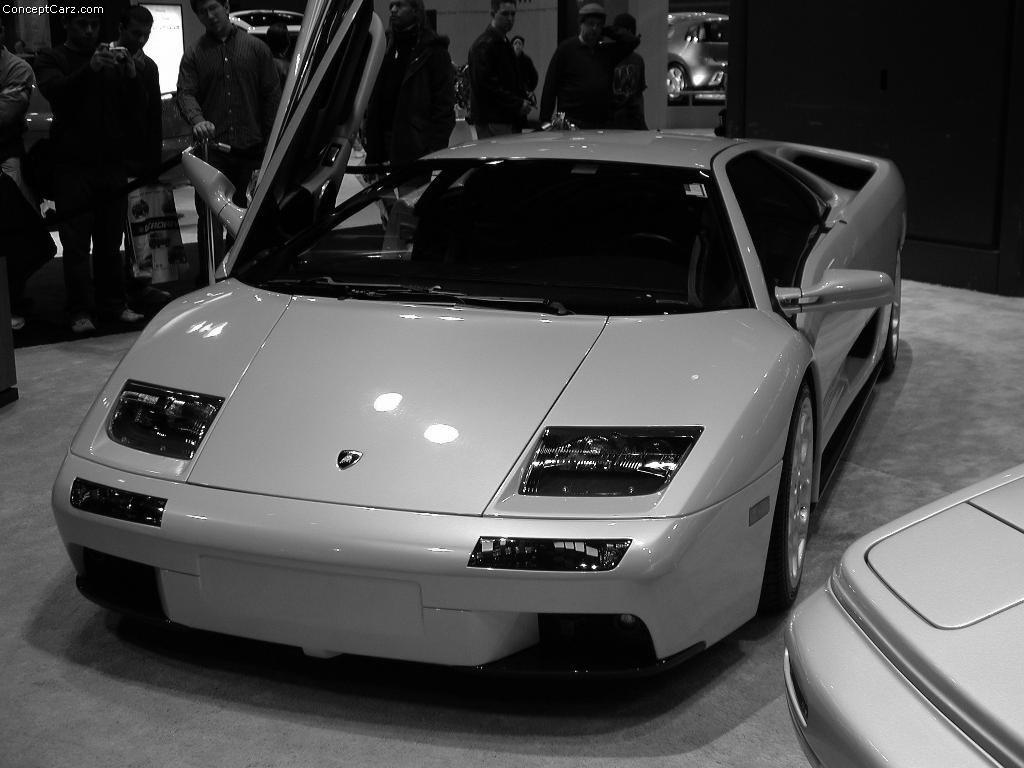car: (47, 1, 919, 702)
